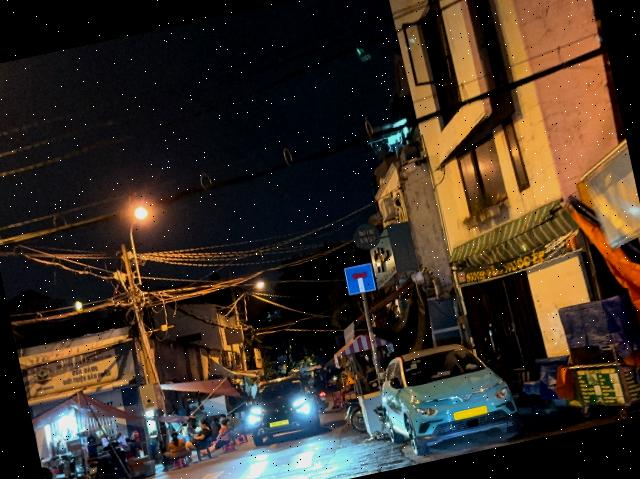duong-cut: (343, 263, 376, 296)
